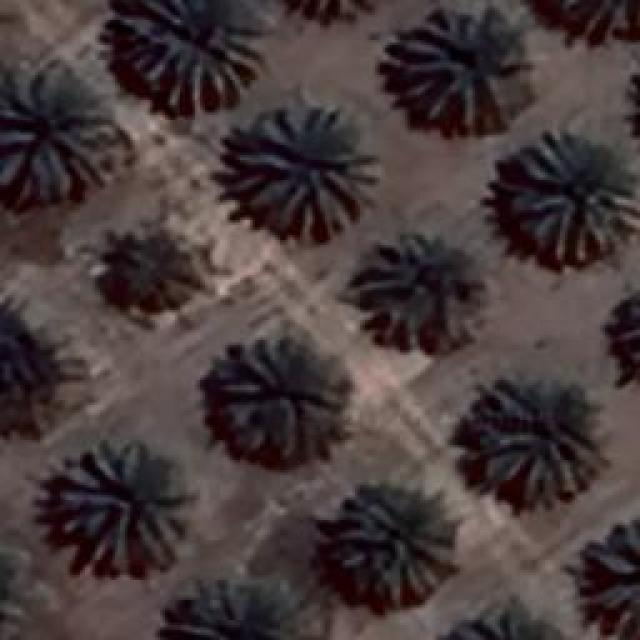PalmTree: (225, 100, 380, 242), (55, 440, 190, 572), (500, 130, 635, 260), (382, 9, 520, 132), (117, 0, 265, 110), (472, 375, 598, 503), (355, 230, 483, 352), (215, 338, 343, 460), (0, 62, 112, 199), (338, 490, 452, 605), (0, 296, 65, 436), (96, 234, 199, 316), (582, 515, 638, 635), (162, 592, 300, 640), (502, 0, 640, 43), (597, 280, 640, 387), (436, 609, 554, 639), (274, 0, 384, 26), (0, 532, 24, 640)
